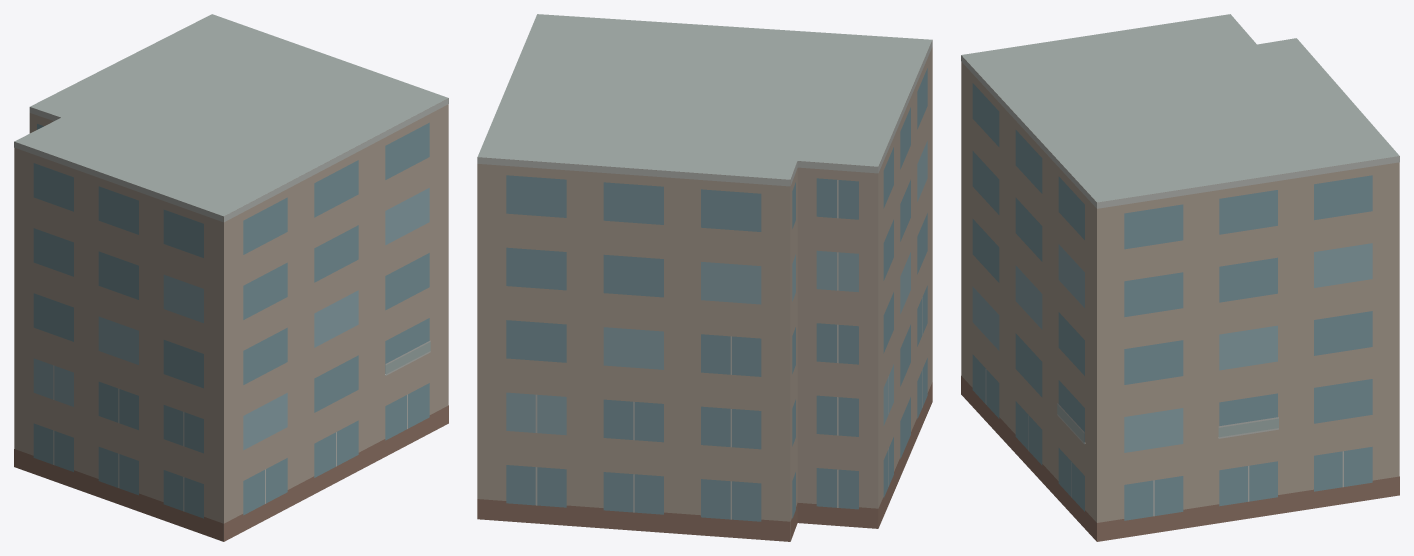
File: survey-upis-33032400.glb
3 renders of one model, left to right at view 1: azimuth 30°, elevation 25°; view 2: azimuth 150°, elevation 25°; view 3: azimuth 270°, elevation 25°, orthographic. The views are drawn at different scales.
Parts seen in each view (by area): view 1: survey-upis-33032400.tmp; view 2: survey-upis-33032400.tmp; view 3: survey-upis-33032400.tmp.
Boxes of the visible parts, bbox=[...] form: survey-upis-33032400.tmp: bbox=[14, 14, 448, 541]; survey-upis-33032400.tmp: bbox=[477, 14, 932, 541]; survey-upis-33032400.tmp: bbox=[961, 14, 1399, 541].
Size of the model in its own units: 15.74 by 13.2 by 15.48.
